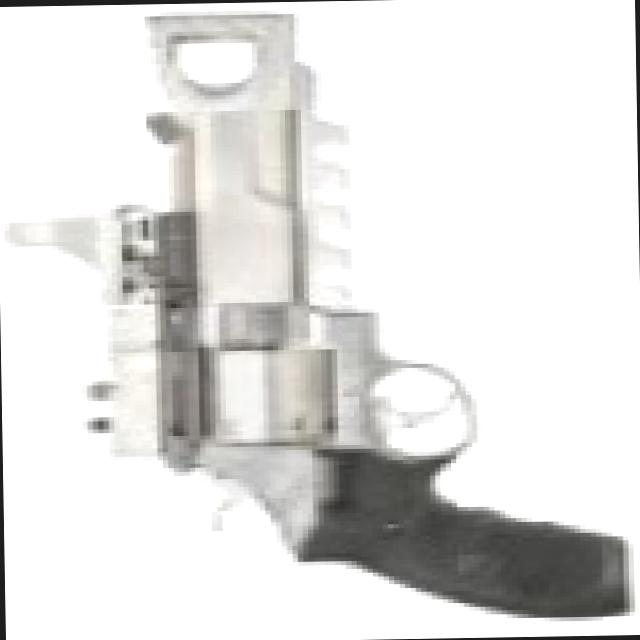handgun: (80, 7, 636, 639)
